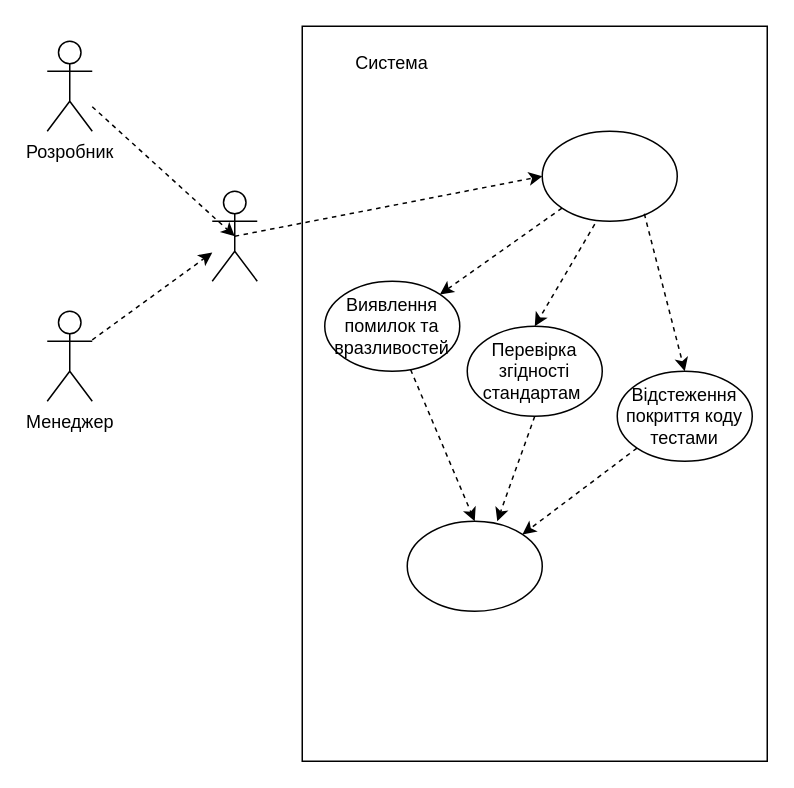
The diagram is 794 pixels wide and 788 high, and some of its shapes have lost their labels. The centre of each missing label's shape, as x and y in pixels:
"Аналіз" belongs at pixel 609 175.
"Код" belongs at pixel 234 235.
"Формування спску помилок" belongs at pixel 474 565.
